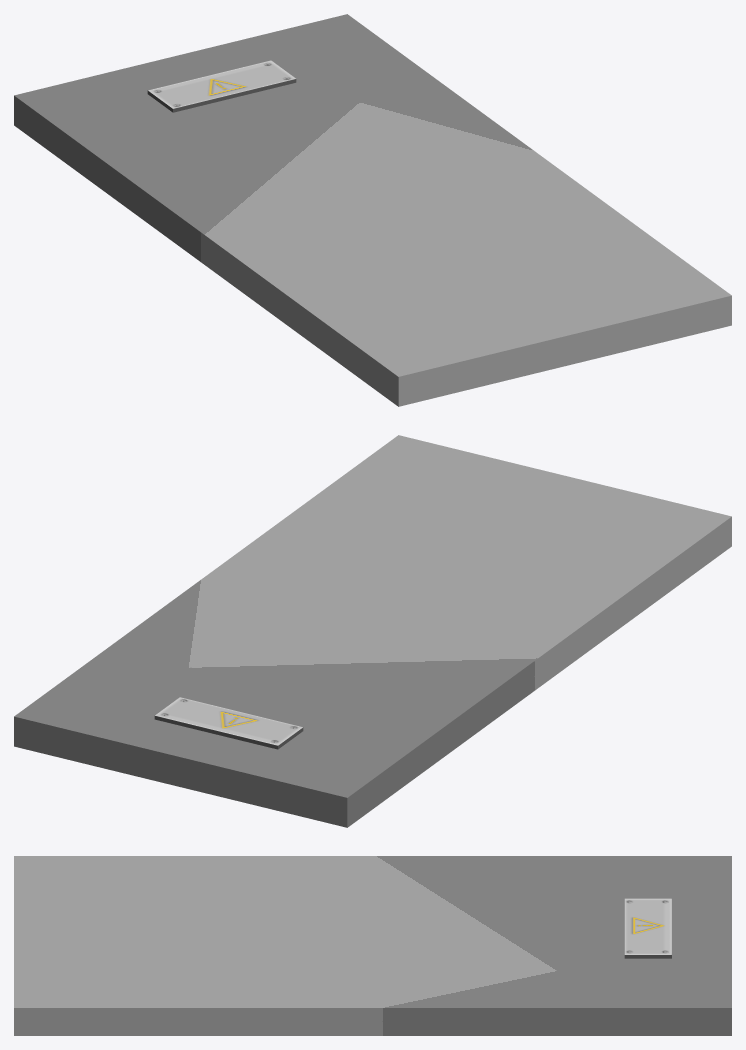
Rendered from Door_1.glb.
3 views of the same model, one above another, from view 1: azimuth 30°, elevation 25°; view 2: azimuth 150°, elevation 25°; view 3: azimuth 270°, elevation 25° (orthographic). The views are drawn at different scales.
Visible parts, largest first — view 1: Door 1; view 2: Door 1; view 3: Door 1.
Part boxes in pixels (<box>): Door 1: <box>14,14,731,406</box>; Door 1: <box>14,435,731,827</box>; Door 1: <box>14,856,731,1035</box>.
Bounding box in the file's own units: 1.01 × 0.1091 × 2.02.
2 materials, 2 textured.
